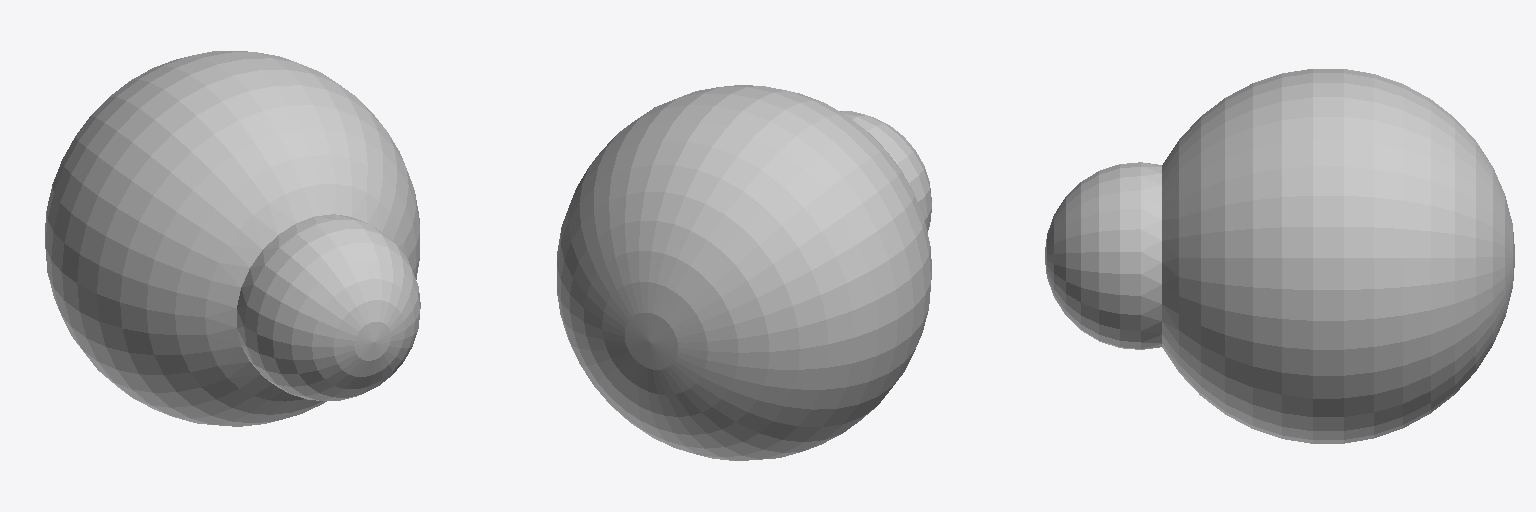
The model's file is PersoV1.obj.
3 renders of one model, left to right at view 1: azimuth 30°, elevation 25°; view 2: azimuth 150°, elevation 25°; view 3: azimuth 270°, elevation 25°, orthographic.
Parts seen in each view (by area): view 1: Corps2; view 2: Corps2; view 3: Corps2.
Part boxes in pixels (bbox=[...]): Corps2: bbox=[45, 51, 420, 426]; Corps2: bbox=[557, 85, 931, 460]; Corps2: bbox=[1045, 69, 1514, 443].
Size of the model in its own units: 4.98 by 4.98 by 6.25.